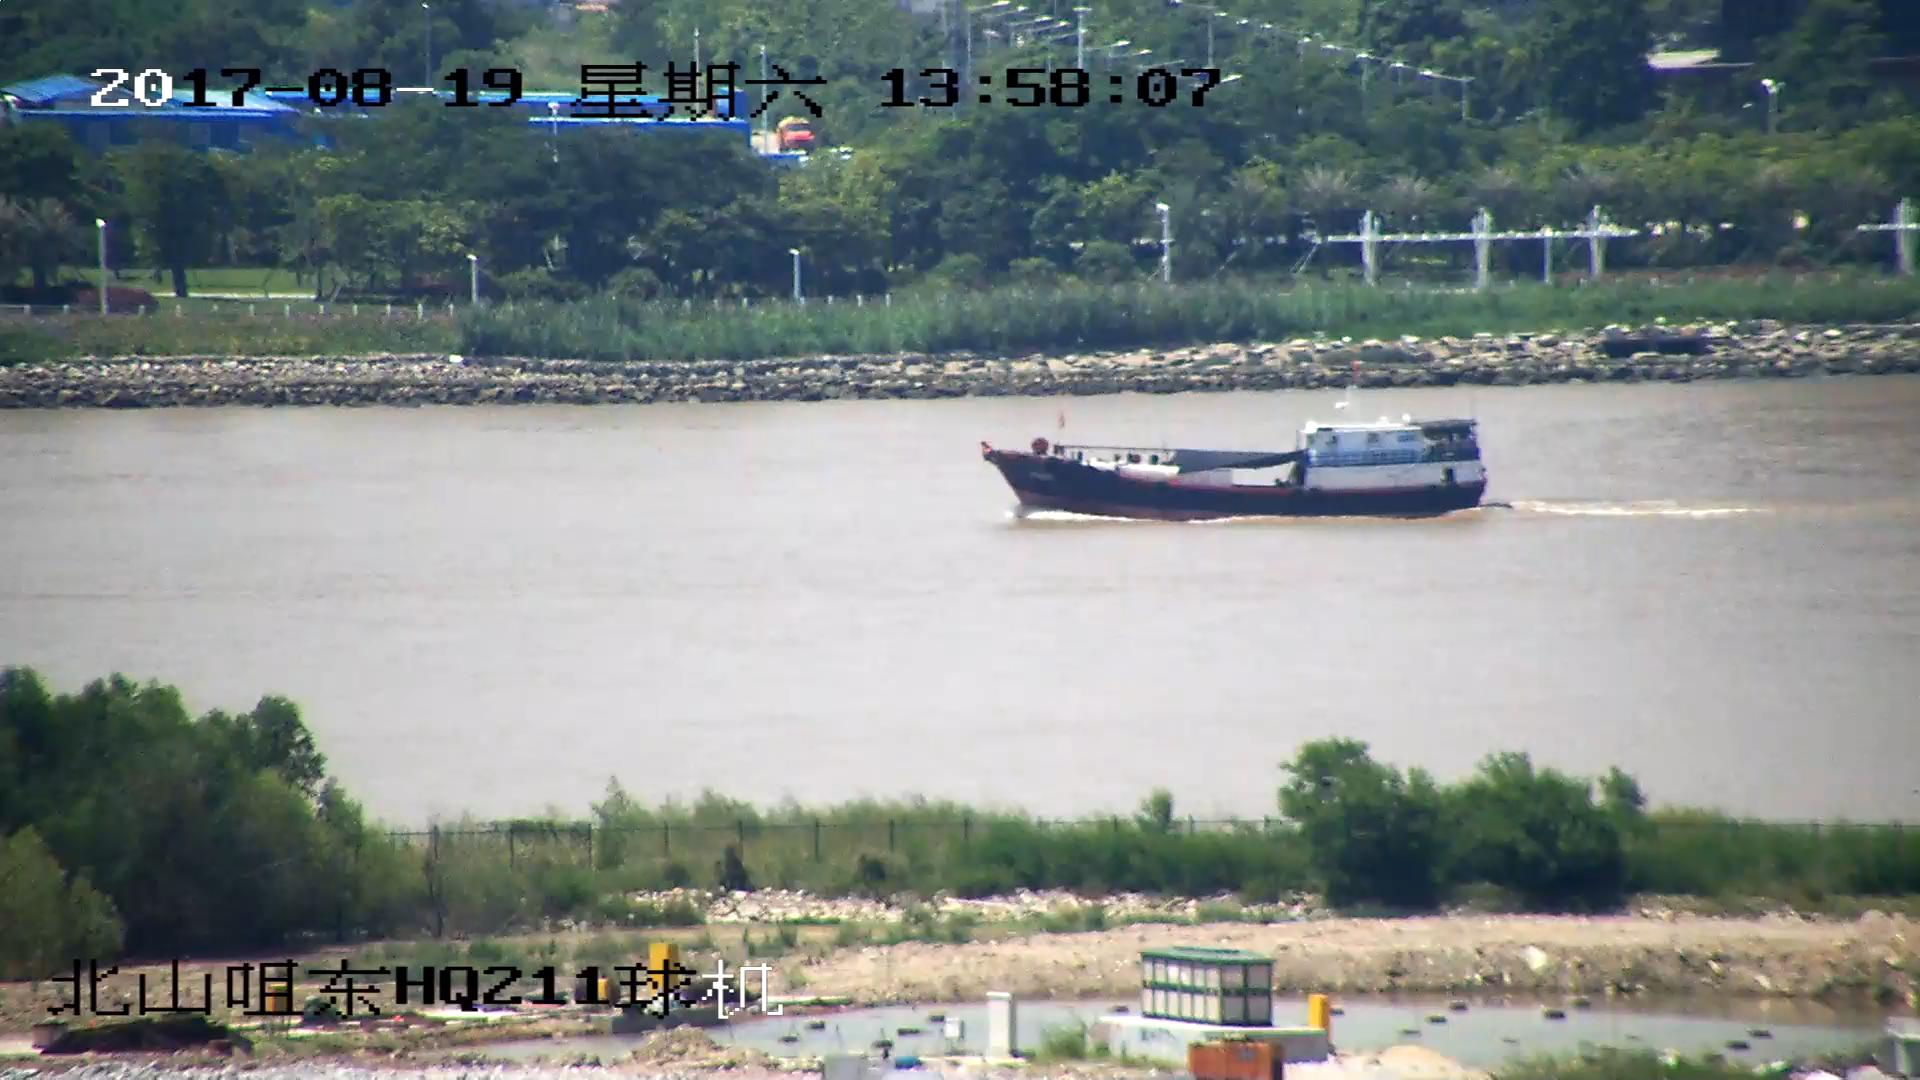fishing boat: (976, 411, 1496, 520)
